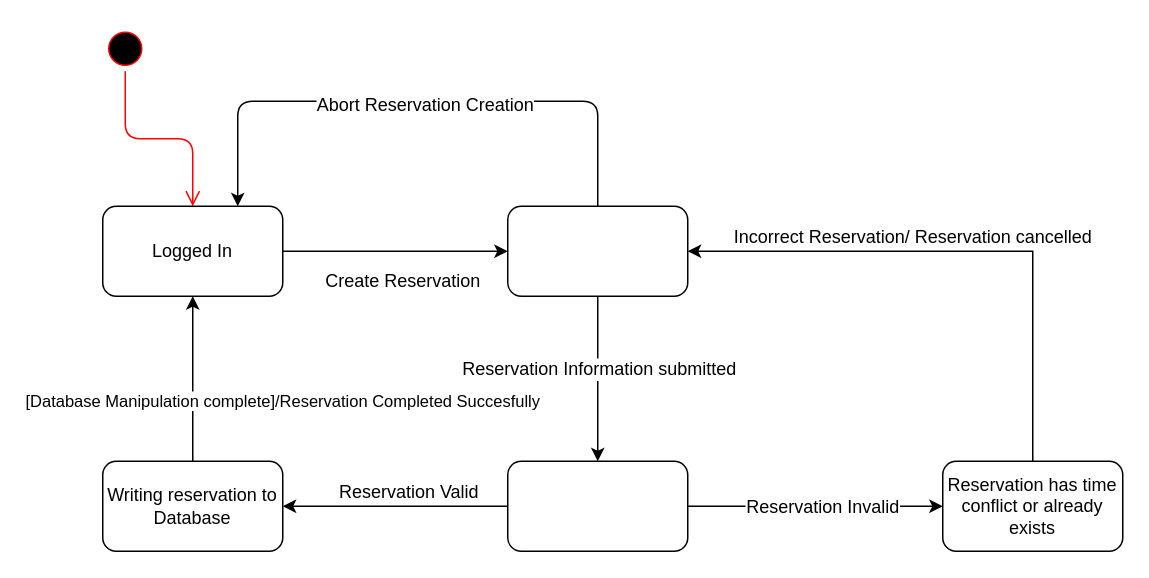
Image size: 1149x578. Some labels were removed from this diagram. The centre of each missing label's shape, as x and y in pixels:
Creating Reservation: pixel 597 250
Validating Reservation: pixel 597 505
